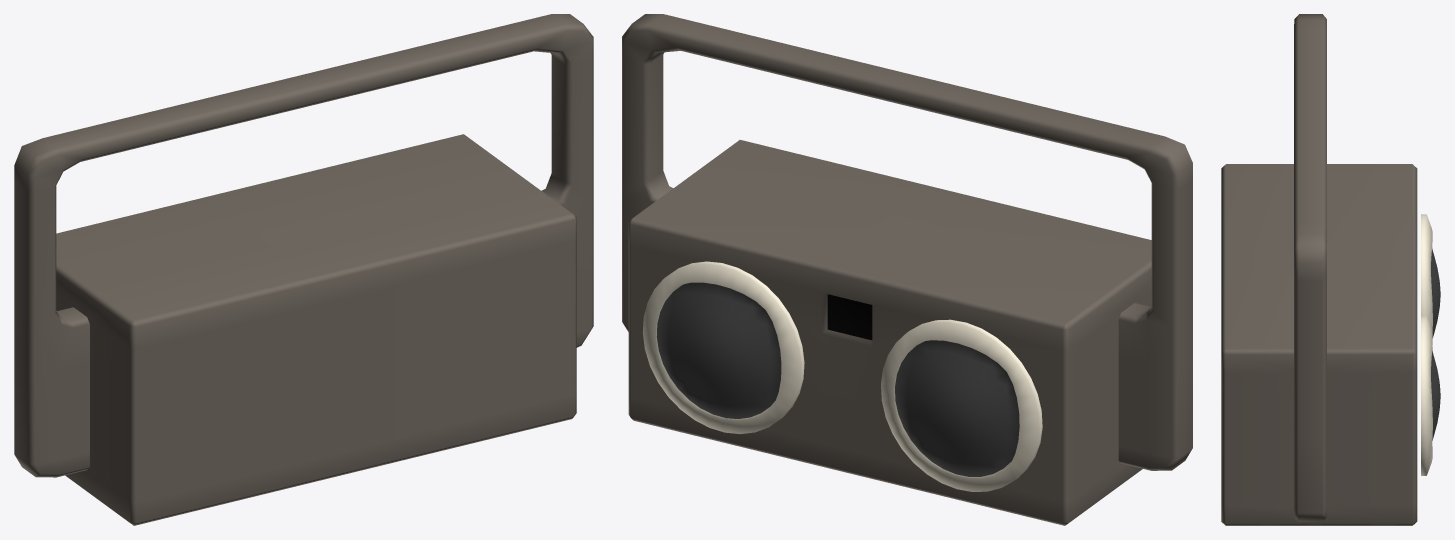
The model's file is SM_BoomBox.fbx.
3 views of the same model, side by side, from view 1: azimuth 30°, elevation 25°; view 2: azimuth 150°, elevation 25°; view 3: azimuth 270°, elevation 25° (orthographic). The views are drawn at different scales.
Visible parts, largest first — view 1: SM_BoomBox; view 2: SM_BoomBox; view 3: SM_BoomBox.
Boxes of the visible parts, x1,y1,x2,y2 form: SM_BoomBox: (14, 14, 593, 525); SM_BoomBox: (622, 14, 1192, 525); SM_BoomBox: (1221, 14, 1440, 525).
Bounding box in the file's own units: 116 × 69.42 × 45.
